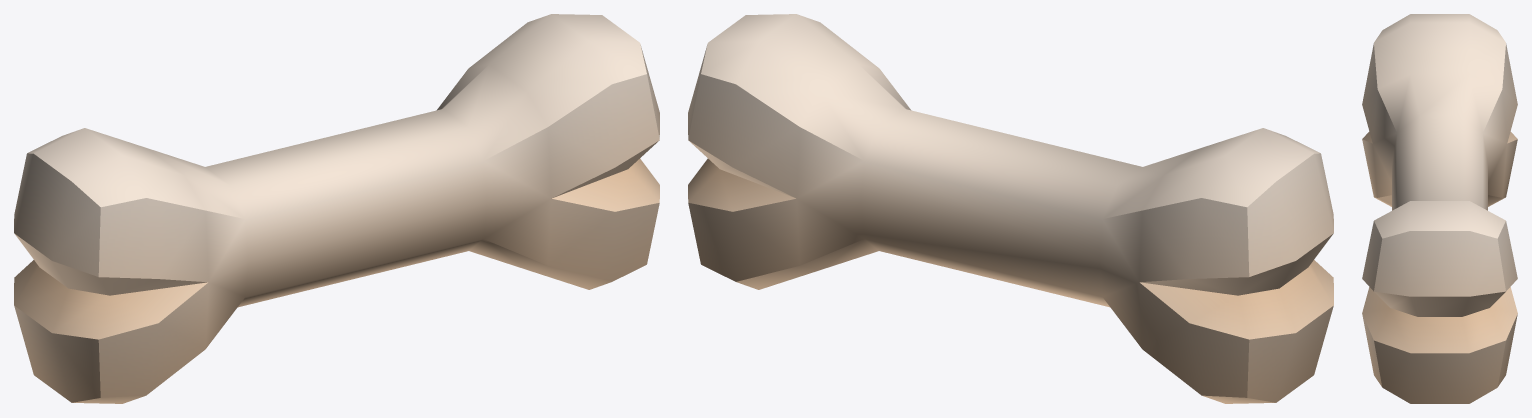
Rendered from Bone.glb.
The picture shows the model from 3 angles, left to right: view 1: azimuth 30°, elevation 25°; view 2: azimuth 150°, elevation 25°; view 3: azimuth 270°, elevation 25°; orthographic projection. The views are drawn at different scales.
Parts seen in each view (by area): view 1: bone_A; view 2: bone_A; view 3: bone_A.
Part boxes in pixels (x1,y1,x2,y2): bone_A: (14,14,659,403); bone_A: (688,14,1333,403); bone_A: (1362,14,1517,403).
Size of the model in its own units: 0.707 by 0.2761 by 0.2007.
1 material, 1 textured.
